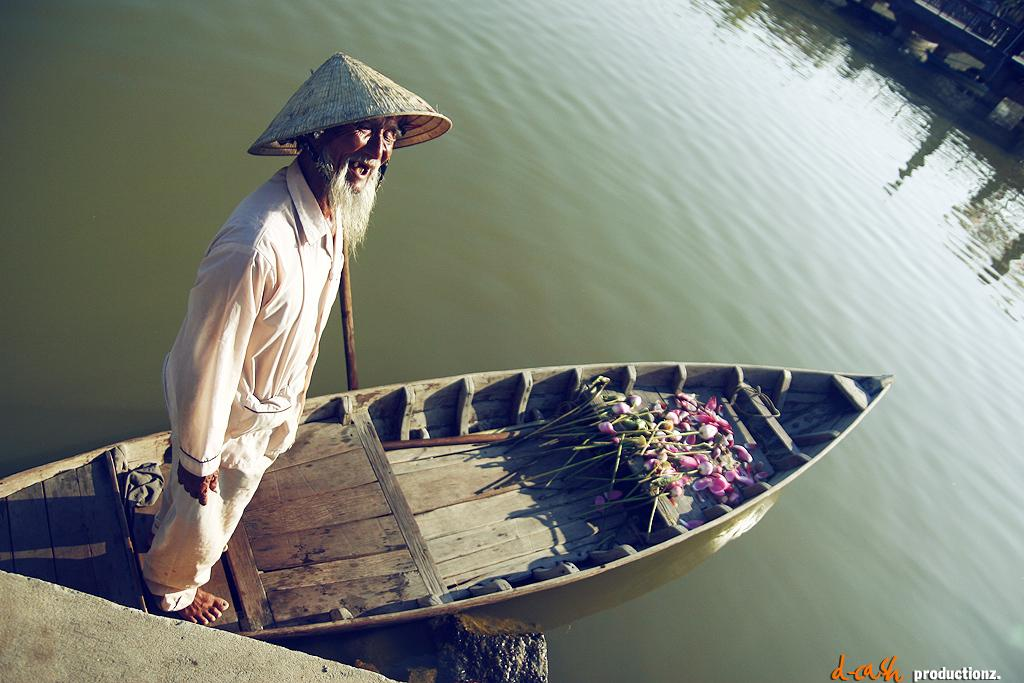Hat: (247, 48, 455, 156)
